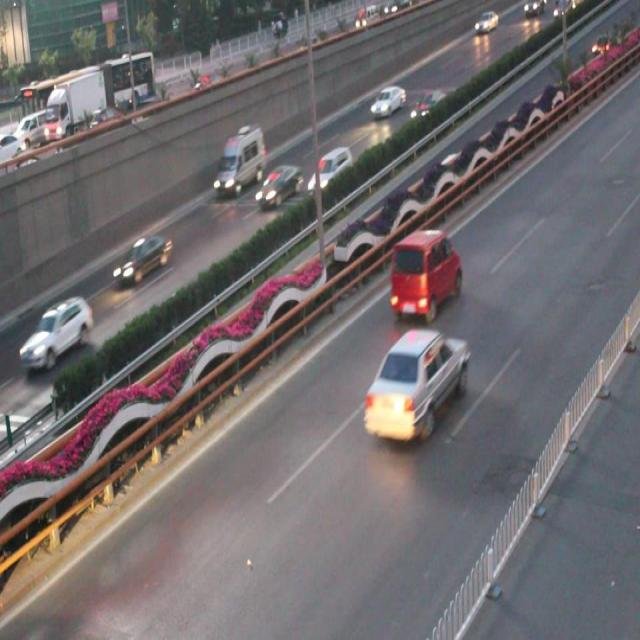car: (363, 325, 468, 441), (390, 228, 462, 323), (19, 294, 94, 367), (111, 230, 173, 288), (306, 146, 353, 192), (256, 162, 301, 208), (408, 86, 447, 121), (371, 84, 406, 117)
truck: (214, 122, 264, 197)
